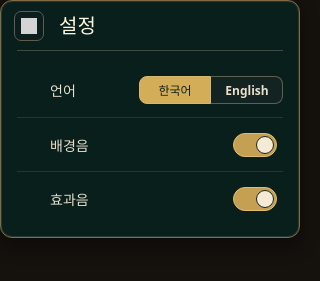
retries the selected locale after storage recovers without repeating its selection cue
Click the button "English": [247, 90] box [211,68,283,112]
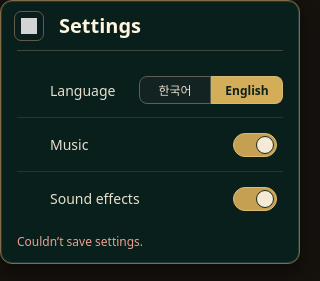
Result: the message "Couldn’t save settings." is shown at [17,233,143,250]
Click the button "English": [247, 90] box [211,68,283,112]
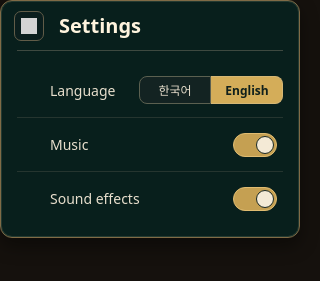
Result: the message "Couldn’t save settings." is gone
